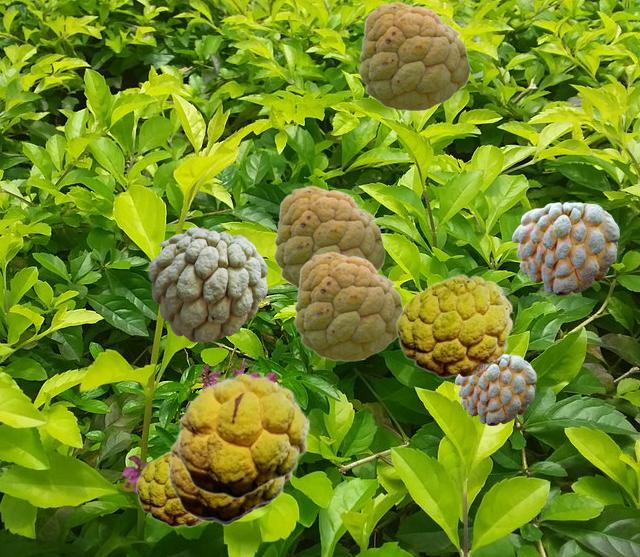atis: (176, 372, 309, 498), (148, 227, 266, 341), (358, 1, 469, 110), (395, 274, 512, 377), (293, 251, 402, 360), (273, 185, 384, 288), (167, 432, 294, 522), (512, 202, 618, 294), (455, 354, 535, 424), (135, 451, 203, 526), (195, 501, 274, 524)
